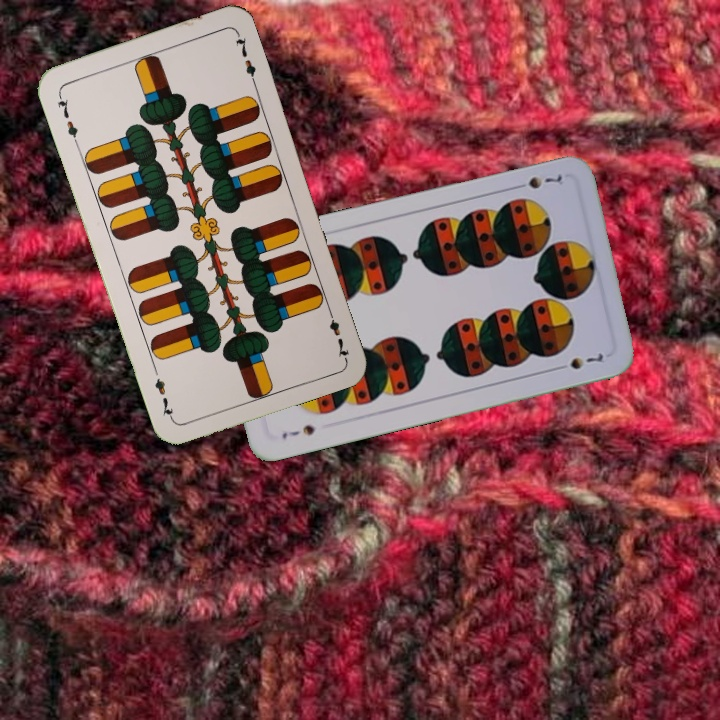E7: (323, 303, 352, 361), (53, 90, 81, 147)
S7: (509, 170, 566, 192), (278, 421, 318, 442)
